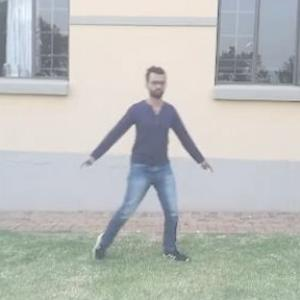land: (85, 72, 212, 248)
